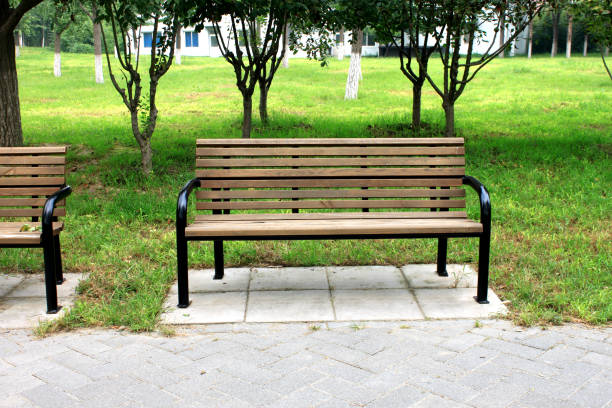bench: (173, 131, 497, 316)
